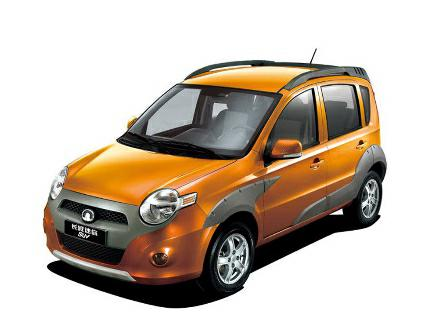长城-M1: (36, 56, 393, 293)
